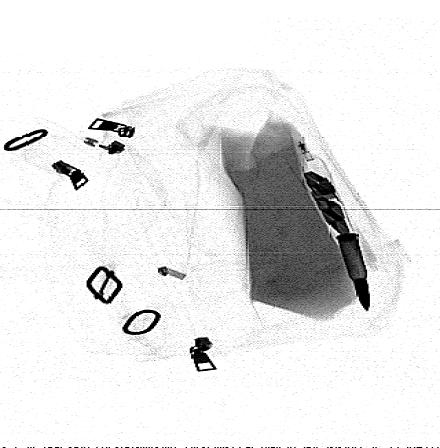Bullet: (335, 231, 372, 314)
